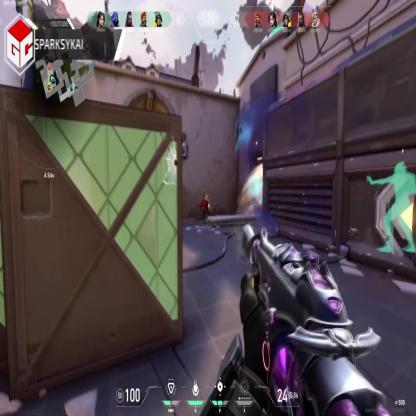enemy: (203, 192, 209, 222)
enemy_head: (205, 194, 208, 201)
